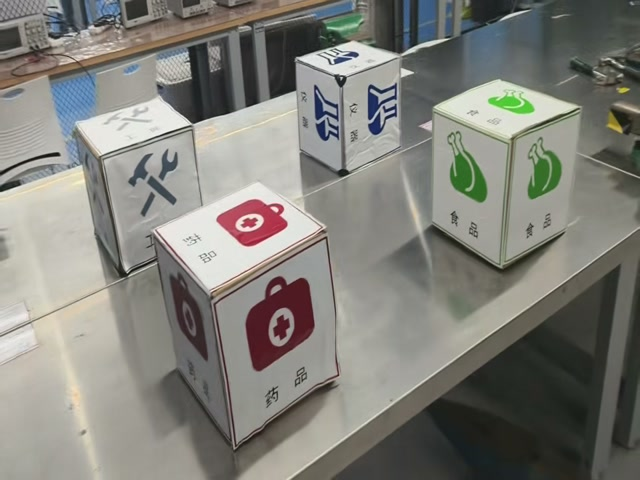Cube_food: (434, 80, 579, 145)
Cube_ins: (296, 42, 399, 77)
Cube_medicine: (154, 183, 326, 294)
Cube_tool: (76, 97, 191, 156)
